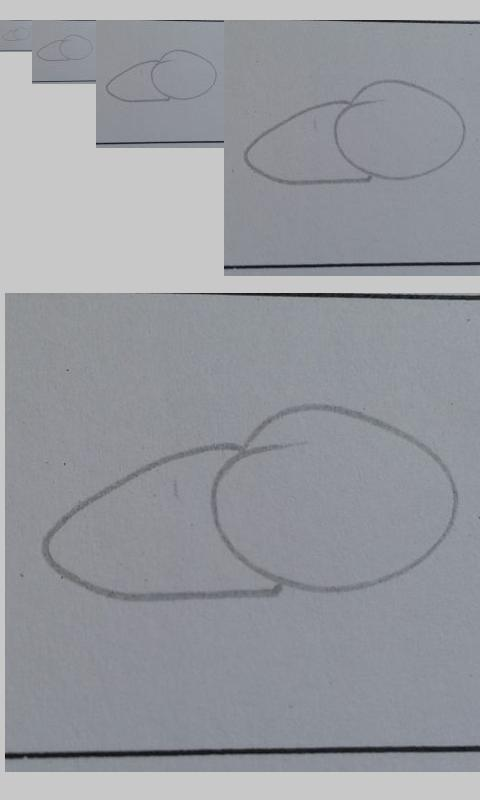switch: (40, 401, 461, 605), (243, 79, 467, 185), (105, 49, 218, 103), (36, 34, 93, 62), (1, 27, 31, 41)
